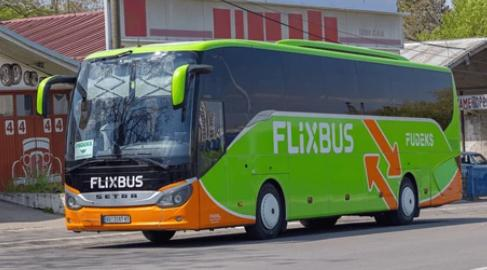vehicle: (36, 38, 462, 241)
